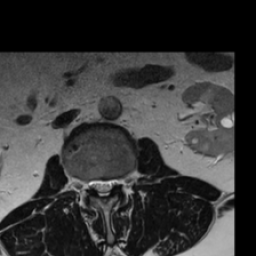CCS_normal: (98, 171, 106, 204)
LFS_normal: (114, 168, 122, 195)
LLS_normal: (106, 171, 114, 197)
RFS_normal: (82, 171, 90, 198)
RLS_normal: (90, 172, 98, 198)
